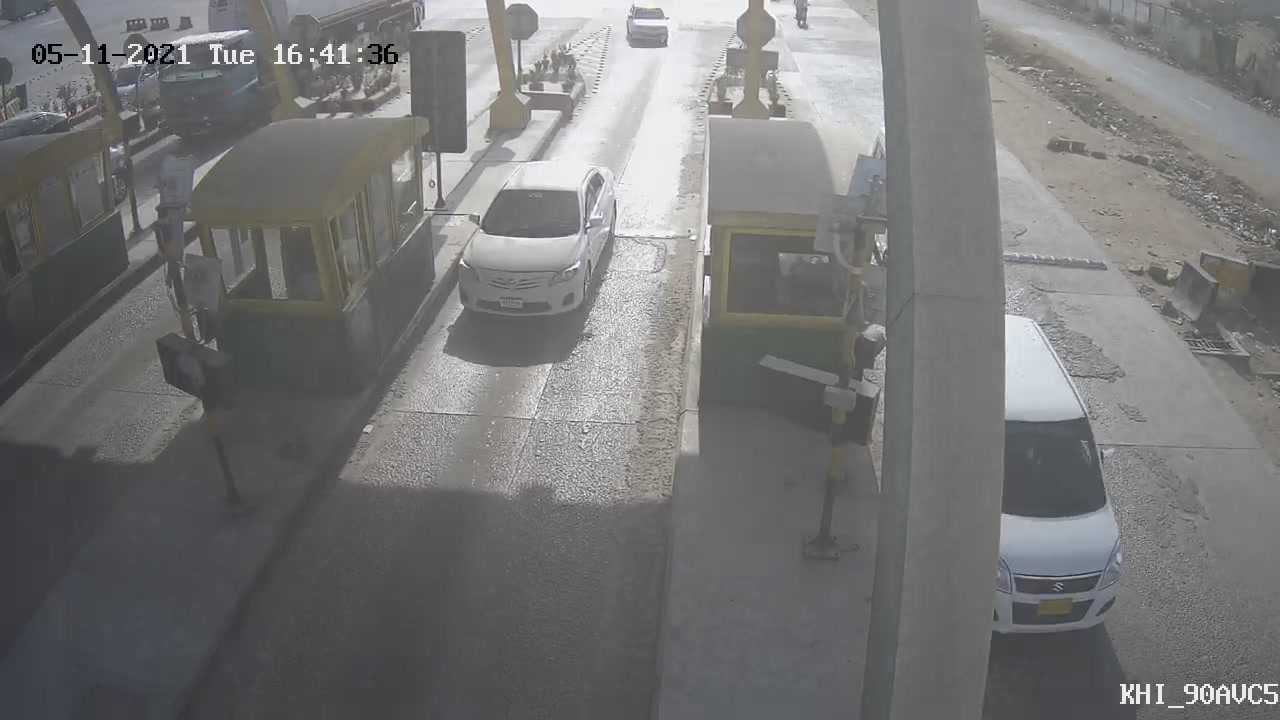F1: (442, 147, 634, 343)
